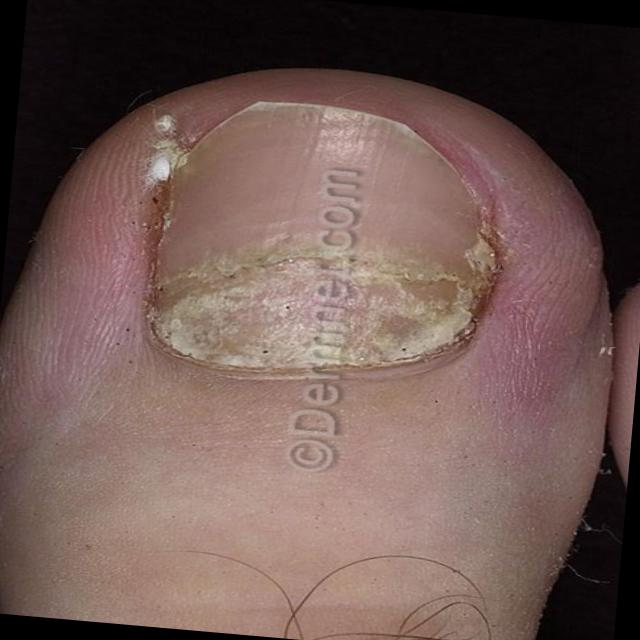Nail: (150, 96, 488, 368)
